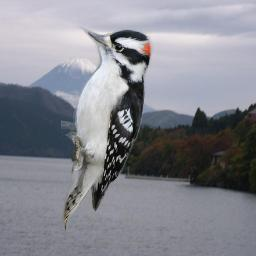Woodpecker: (61, 20, 160, 233)
